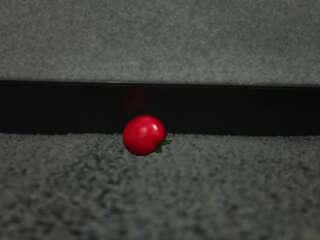Tomato: (121, 114, 172, 158)
